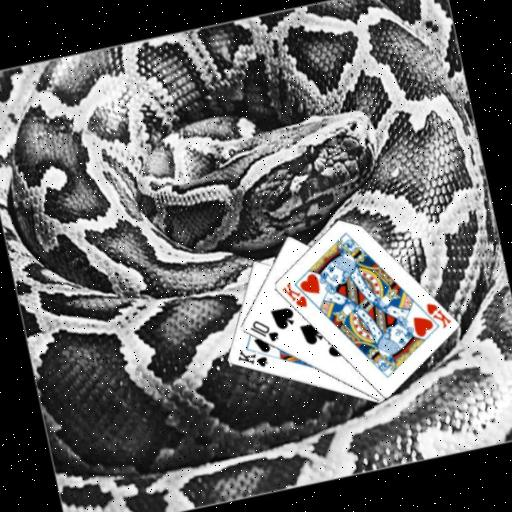10S: (244, 314, 281, 348)
KH: (276, 276, 309, 313), (421, 295, 453, 332)
KS: (232, 342, 270, 374)
